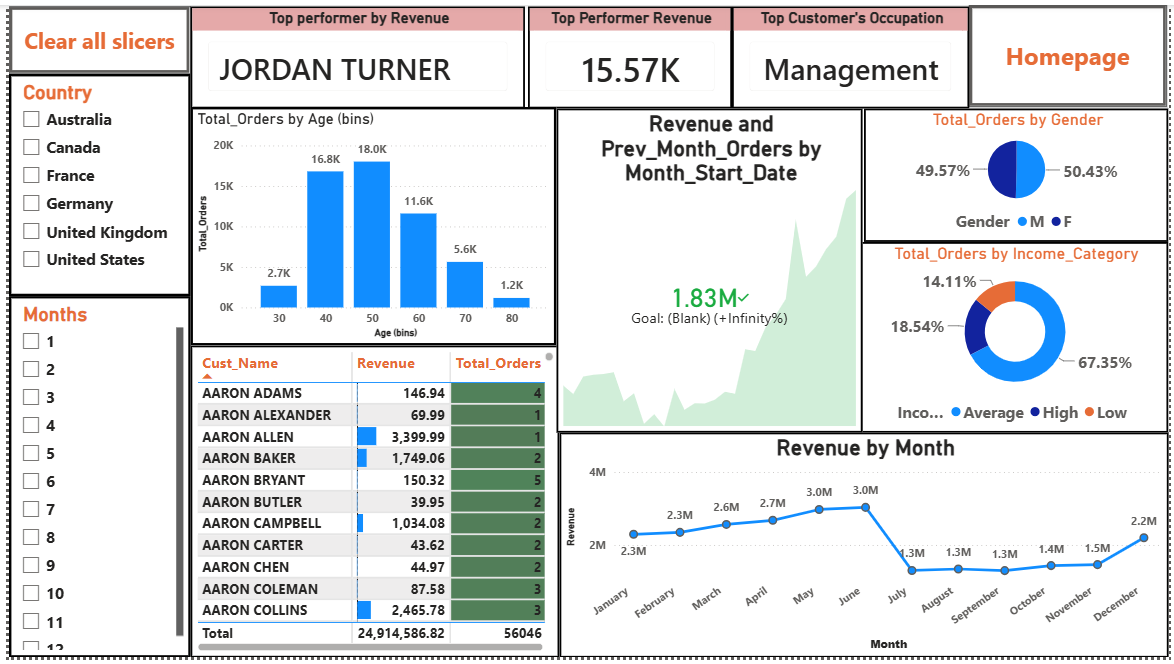

What the dashboard file says about the page in this screenshot:
{"tool":"powerbi","page":{"name":"Customer_analysis","canvas":[1280,720],"ordinal":6},"visuals":[{"type":"tableEx","fields":{"Values":["Customers.Cust_Name","Sales.Revenue","Sales.Total_Orders"]},"box":[200.4,376,407.5,344.5],"z":0},{"type":"pieChart","fields":{"Category":["Customers.Gender"],"Y":["Sales.Total_Orders"]},"box":[944.2,114.3,336.3,147.4],"z":1000},{"type":"donutChart","fields":{"Category":["Customers.Income_Category"],"Y":["Sales.Total_Orders"]},"box":[940.9,261.7,339.6,210.4],"z":2000},{"type":"cardVisual","title":"Top performer by Revenue","fields":{"Data":["Min(Customers.Cust_Name)"]},"box":[200.4,1.7,369.4,112.6],"z":3000},{"type":"cardVisual","title":"Top Performer Revenue","fields":{"Data":["Sales.Revenue"]},"box":[573.1,1.7,225.3,112.6],"z":4000},{"type":"lineChart","fields":{"Y":["Sales.Revenue"],"Category":["Sales.Month_Start_Date.Variation.Date Hierarchy.Month"]},"box":[607.9,472.1,672.5,248.5],"z":5000},{"type":"cardVisual","title":"Top Customer''s Occupation","fields":{"Data":["Min(Customers.Occupation)"]},"box":[798.4,1.7,261.7,112.6],"z":6000},{"type":"kpi","fields":{"Indicator":["Sales.Revenue"],"TrendLine":["Sales.Month_Start_Date"],"Goal":["Sales.Prev_Month_Orders"]},"box":[604.6,114.3,337.9,357.8],"z":7000},{"type":"clusteredColumnChart","fields":{"Category":["Customers.Age (bins)"],"Y":["Sales.Total_Orders"]},"box":[200.4,112.6,404.2,263.4],"z":8000},{"type":"actionButton","box":[0,1.7,200.4,74.5],"z":9000},{"type":"actionButton","title":"Homepage","box":[1060.1,0,218.7,112.6],"z":10000},{"type":"slicer","fields":{"Values":["Calendars.Dates.Months"]},"box":[0,321.4,200.4,399.2],"z":11000},{"type":"slicer","fields":{"Values":["Territories.Country"]},"box":[0,76.2,200.4,245.2],"z":12000}]}

Visuals, with their boxes in screenshot pixels (x1, y1, x2, y2), scaled from the page's 1280x720 canvas onto the 1174x664 screenshot:
tableEx - Customers.Cust_Name x Sales.Revenue: 184 347 558 663
pieChart - Customers.Gender x Sales.Total_Orders: 866 105 1173 241
donutChart - Customers.Income_Category x Sales.Total_Orders: 863 241 1173 435
"Top performer by Revenue" cardVisual: 184 2 523 105
"Top Performer Revenue" cardVisual: 526 2 732 105
lineChart - Sales.Revenue x Sales.Month_Start_Date.Variation.Date Hierarchy.Month: 558 435 1173 663
"Top Customer''s Occupation" cardVisual: 732 2 972 105
kpi - Sales.Revenue x Sales.Month_Start_Date: 555 105 864 435
clusteredColumnChart - Customers.Age (bins) x Sales.Total_Orders: 184 104 555 347
actionButton: 0 2 184 70
"Homepage" actionButton: 972 0 1173 104
slicer - Calendars.Dates.Months: 0 296 184 663
slicer - Territories.Country: 0 70 184 296
